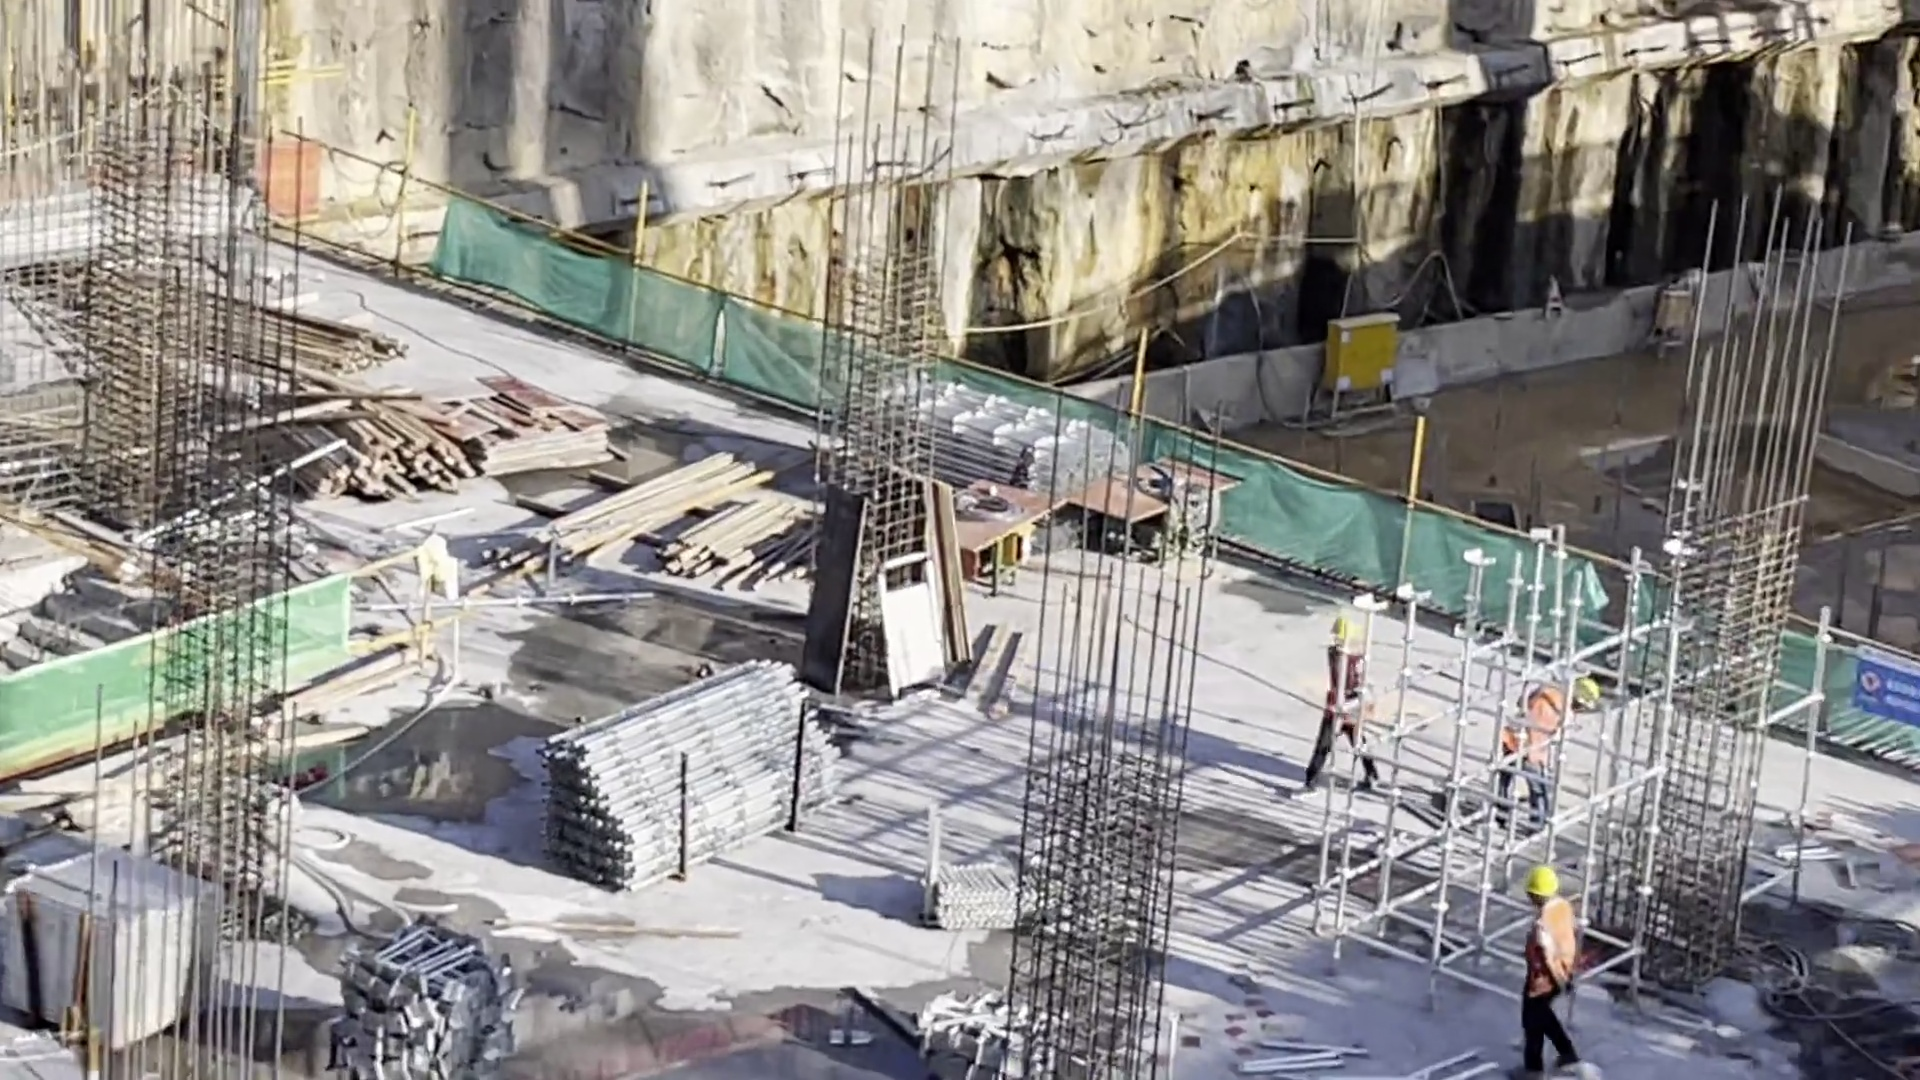board: (460, 381, 612, 465)
cutter: (1078, 467, 1214, 550), (919, 496, 1042, 588)
ebox: (1330, 324, 1405, 417), (1662, 290, 1701, 336)
helmet: (1522, 867, 1562, 892), (1576, 680, 1600, 706), (1328, 623, 1356, 643)
person: (1493, 671, 1593, 835), (1512, 865, 1582, 1080), (1306, 619, 1379, 801)
scaffold: (580, 658, 827, 885), (845, 377, 1103, 482), (1, 873, 181, 1016), (917, 836, 1067, 943)
slogan: (1864, 653, 1919, 721)
vest: (1495, 689, 1561, 750), (1538, 907, 1581, 968), (1328, 652, 1365, 714)
wood: (581, 449, 765, 557), (111, 298, 364, 374), (291, 409, 488, 493), (689, 501, 801, 572)
